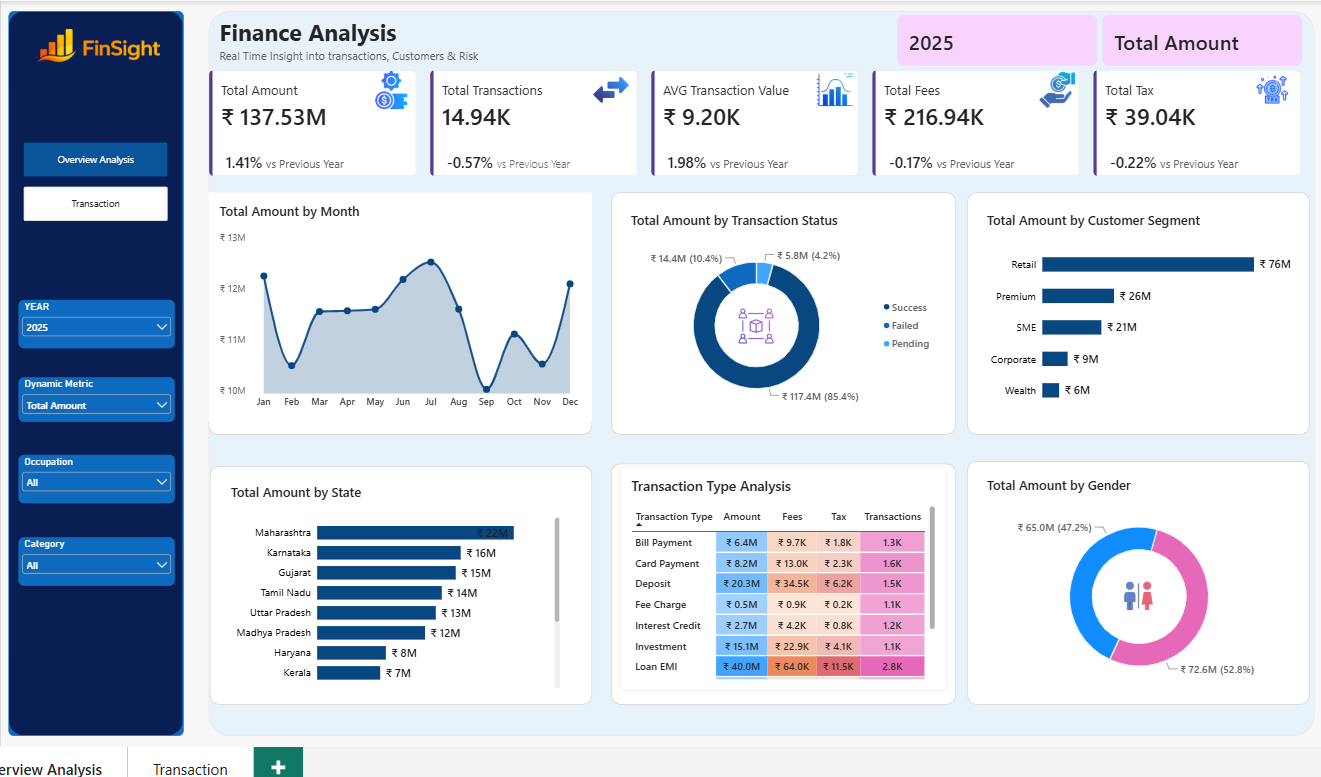

The dashboard page shown, as its layout file describes it:
{"tool":"powerbi","page":{"name":"Overview Analysis","canvas":[1920,1080],"ordinal":0},"visuals":[{"type":"shape","box":[10.9,14.5,253.4,1049.6],"z":0},{"type":"shape","box":[300.5,14.4,1601.4,1049.7],"z":1000},{"type":"image","box":[10.9,29,266,72.4],"z":2000},{"type":"cardVisual","fields":{"Data":["finance_transactions.Dashboard Title"]},"box":[300.4,14.5,414.4,85.1],"z":3000},{"type":"cardVisual","fields":{"Data":["finance_transactions.Total Amount","finance_transactions.Total Transactions","finance_transactions.AVG Transaction Value","finance_transactions.Total Fees","finance_transactions.Total Tax"]},"box":[300.4,99.5,1583.5,155],"z":4000},{"type":"slicer","fields":{"Values":["Calender Table.YEAR"]},"box":[25.3,432.5,226.2,70.6],"z":5000},{"type":"image","box":[537.5,101.3,55,55],"z":6000},{"type":"image","box":[856,101.3,54.3,54.3],"z":7000},{"type":"image","box":[1502,101.3,54.3,54.3],"z":8000},{"type":"image","box":[1179.9,101.3,54.3,54.3],"z":9000},{"type":"image","box":[1813.3,101.3,54.3,54.3],"z":10000},{"type":"slicer","fields":{"Values":["Dynamic Metric.Dynamic Metric"]},"box":[25.3,544.7,226.2,65.1],"z":11000},{"type":"shape","box":[300.4,276.9,555.6,351.1],"z":12000},{"type":"areaChart","fields":{"Category":["Calender Table.Month"],"Y":["finance_transactions.Total Amount"]},"box":[300.4,276.9,555.6,333],"z":13000},{"type":"cardVisual","fields":{"Data":["finance_transactions.Selected Year","finance_transactions.Selected Dynamic Measure"]},"box":[1297.5,19.9,586.3,74.2],"z":14000},{"type":"shape","box":[883.1,276.9,499.5,351.1],"z":15000},{"type":"donutChart","fields":{"Category":["finance_transactions.transaction_status"],"Y":["finance_transactions.Total Amount"]},"box":[895.8,289.5,474.1,320.3],"z":16000},{"type":"shape","box":[1398.9,276.9,495.8,351.1],"z":17000},{"type":"barChart","fields":{"Category":["customers.customer_segment"],"Y":["finance_transactions.Total Amount"]},"box":[1411.5,289.5,472.3,320.3],"z":18000},{"type":"shape","box":[302.2,673.2,553.8,345.6],"z":19000},{"type":"barChart","fields":{"Category":["customers.state"],"Y":["finance_transactions.Total Amount"]},"box":[316.7,684.1,508.5,327.5],"z":20000},{"type":"shape","box":[883.1,669.6,499.5,349.3],"z":21000},{"type":"tableEx","title":"Transaction Type Analysis","fields":{"Values":["finance_transactions.transaction_type","finance_transactions.Total Amount","finance_transactions.Total Fees","finance_transactions.Total Tax","finance_transactions.Total Transactions"]},"box":[895.8,673.2,474.1,325.7],"z":22000},{"type":"shape","box":[1398.9,666,495.8,352.9],"z":23000},{"type":"donutChart","title":"Total Amount by Gender","fields":{"Category":["customers.gender"],"Y":["finance_transactions.Total Amount"]},"box":[1411.5,673.2,472.3,338.4],"z":24000},{"type":"image","box":[1065.9,443.4,54.3,54.3],"z":25000},{"type":"image","box":[1623.3,836.1,47.1,50.7],"z":26000},{"type":"slicer","fields":{"Values":["customers.occupation"]},"box":[25.3,656.9,226.2,70.6],"z":27000},{"type":"slicer","fields":{"Values":["finance_transactions.merchant_category"]},"box":[25.3,776.3,226.2,70.6],"z":28000},{"type":"pageNavigator","box":[32.6,204.5,209.9,115.8],"z":29000}]}

Visuals, with their boxes on the page's 1920x1080 design canvas (x1, y1, x2, y2). These are canvas units, not pixel positions in the 1321x777 screenshot, which may show the page scaled, cropped or inside an application window:
shape: x1=11 y1=14 x2=264 y2=1064
shape: x1=300 y1=14 x2=1902 y2=1064
image: x1=11 y1=29 x2=277 y2=101
cardVisual - finance_transactions.Dashboard Title: x1=300 y1=14 x2=715 y2=100
cardVisual - finance_transactions.Total Amount x finance_transactions.Total Transactions: x1=300 y1=100 x2=1884 y2=254
slicer - Calender Table.YEAR: x1=25 y1=432 x2=252 y2=503
image: x1=538 y1=101 x2=592 y2=156
image: x1=856 y1=101 x2=910 y2=156
image: x1=1502 y1=101 x2=1556 y2=156
image: x1=1180 y1=101 x2=1234 y2=156
image: x1=1813 y1=101 x2=1868 y2=156
slicer - Dynamic Metric.Dynamic Metric: x1=25 y1=545 x2=252 y2=610
shape: x1=300 y1=277 x2=856 y2=628
areaChart - Calender Table.Month x finance_transactions.Total Amount: x1=300 y1=277 x2=856 y2=610
cardVisual - finance_transactions.Selected Year x finance_transactions.Selected Dynamic Measure: x1=1298 y1=20 x2=1884 y2=94
shape: x1=883 y1=277 x2=1383 y2=628
donutChart - finance_transactions.transaction_status x finance_transactions.Total Amount: x1=896 y1=290 x2=1370 y2=610
shape: x1=1399 y1=277 x2=1895 y2=628
barChart - customers.customer_segment x finance_transactions.Total Amount: x1=1412 y1=290 x2=1884 y2=610
shape: x1=302 y1=673 x2=856 y2=1019
barChart - customers.state x finance_transactions.Total Amount: x1=317 y1=684 x2=825 y2=1012
shape: x1=883 y1=670 x2=1383 y2=1019
"Transaction Type Analysis" tableEx: x1=896 y1=673 x2=1370 y2=999
shape: x1=1399 y1=666 x2=1895 y2=1019
"Total Amount by Gender" donutChart: x1=1412 y1=673 x2=1884 y2=1012
image: x1=1066 y1=443 x2=1120 y2=498
image: x1=1623 y1=836 x2=1670 y2=887
slicer - customers.occupation: x1=25 y1=657 x2=252 y2=728
slicer - finance_transactions.merchant_category: x1=25 y1=776 x2=252 y2=847
pageNavigator: x1=33 y1=204 x2=242 y2=320
